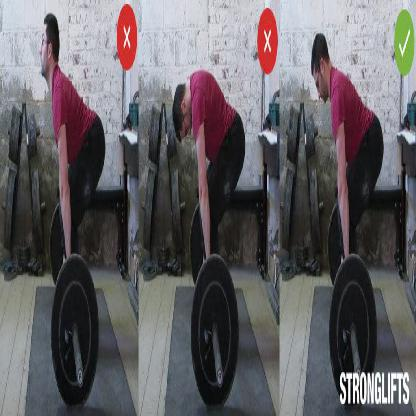Barbell: (49, 245, 104, 416), (189, 249, 241, 413)
